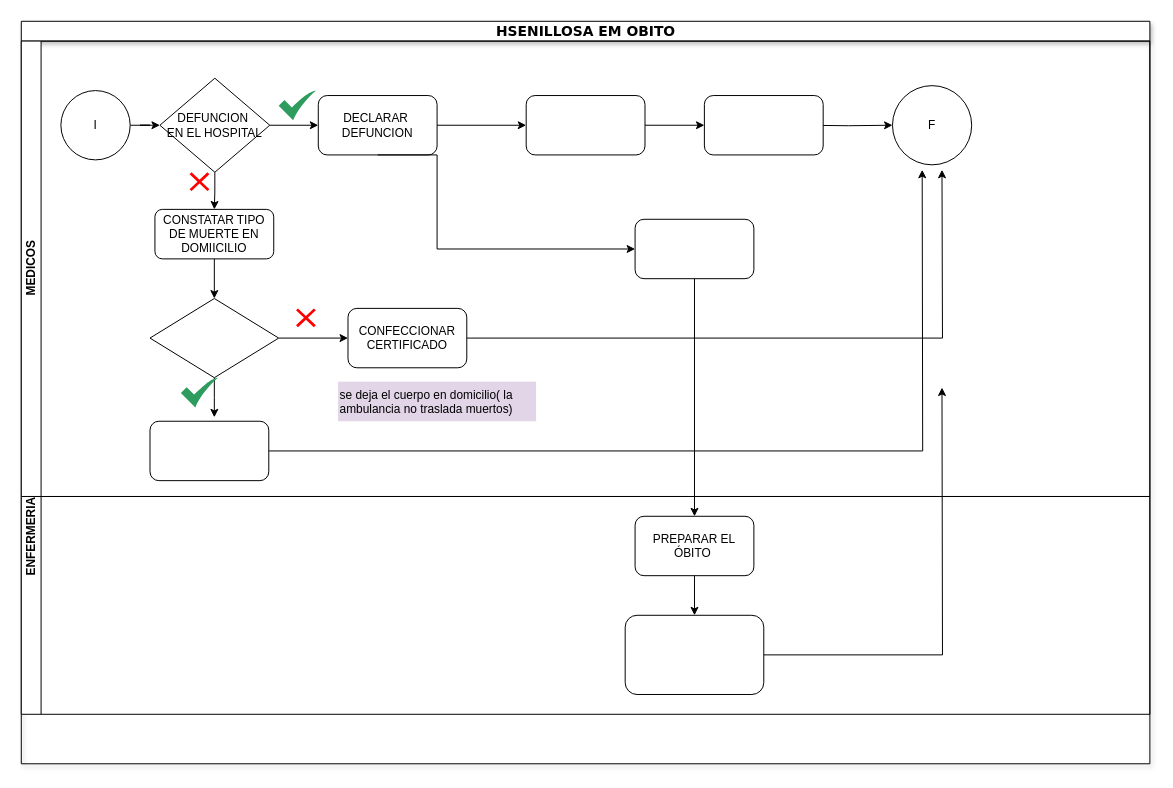
This 1173x788 diagram has some shape labels left out. Each missing label, with the centre of its shape:
"AVISO FISCALIA" belongs at point 209,450.
"COMPLETAR CERTIFICADO DEFUNCION" belongs at point 763,125.
"NOTIFICAR FAMILIARES" belongs at point 585,125.
"SOLICITAR PREPARACION CUERPO" belongs at point 694,248.
"TIENE SINTOMA DE VIOLENCIA" belongs at point 214,337.
"TRASLADO OBITO A DEPOSITO PARA QUE RETIRE CALF (SIN HELADER)" belongs at point 694,654.
